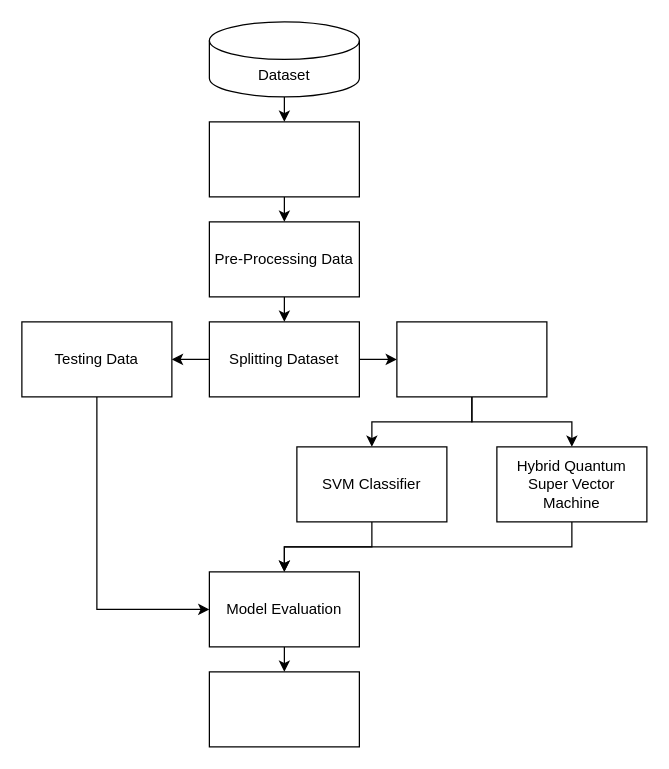
Some shapes in this 669 by 769 pixel diagram are drawn without their labels. The centre of each missing label's shape, as x and y in pixels:
Exploratory Data Analysis(EDA): point (283, 159)
Prediction: point (283, 709)
Training Data: point (471, 359)
